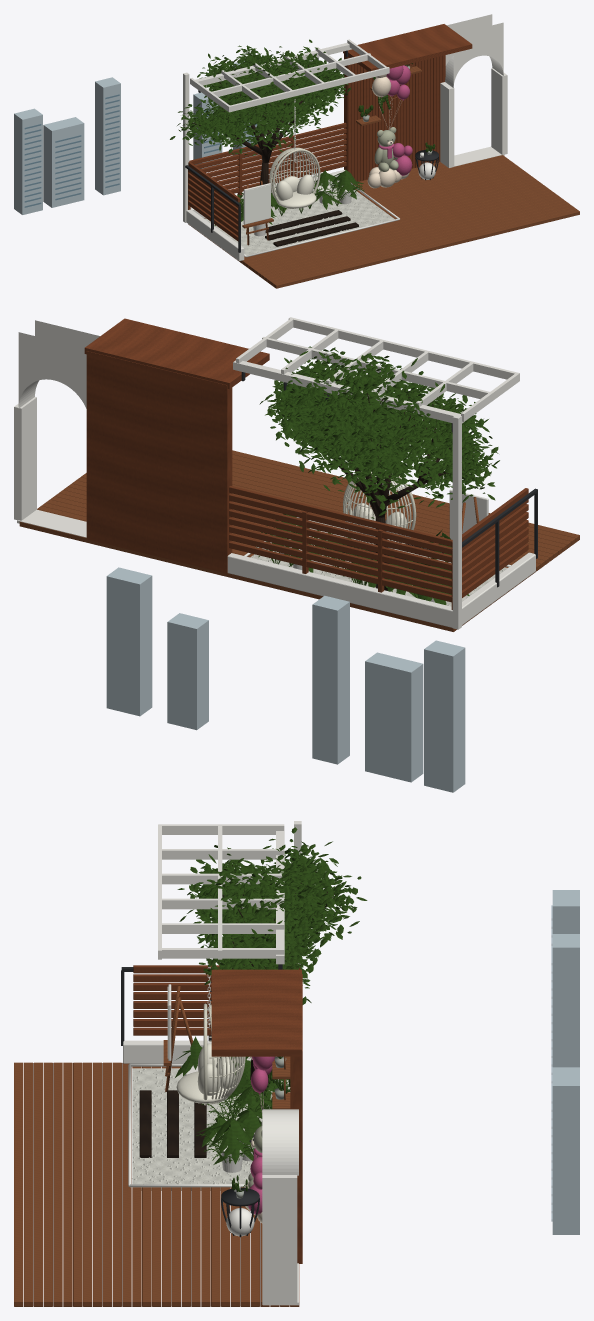
File: Xingtong_Terrace_Green_Textured.glb
The picture shows the model from 3 angles, top to bottom: view 1: azimuth 30°, elevation 25°; view 2: azimuth 150°, elevation 25°; view 3: azimuth 270°, elevation 25°; orthographic projection. The views are drawn at different scales.
Visible parts, largest first — view 1: Dense_green_broadleaf_crown, APPROXIMATE_distant_building.001, Gravel_bed, Small_roof_overhang, APPROXIMATE_distant_building.002, APPROXIMATE_distant_building, Arch_curved_opening_solid_spandrel, Deck_board, Arch_right_jamb, Arch_left_jamb, Pergola_white_cross_beam, Deck_board.003 (+54 smaller); view 2: Feature_wall_backing, Dense_green_broadleaf_crown, APPROXIMATE_distant_building.001, APPROXIMATE_distant_building.004, APPROXIMATE_distant_building.002, APPROXIMATE_distant_building, Small_roof_overhang, Rear_white_parapet, APPROXIMATE_distant_building.003, Arch_curved_opening_solid_spandrel, Arch_right_jamb, Pergola_left_visible_support (+26 smaller); view 3: Dense_green_broadleaf_crown, Small_roof_overhang, Gravel_bed, APPROXIMATE_distant_building.004, Arch_right_jamb, APPROXIMATE_distant_building.002, Understory_large_pointed_leaves, Deck_board, Deck_board.001, Deck_board.002, Deck_board.003, Deck_board.004 (+38 smaller).
Boxes of the visible parts, box(x1,y1,x2,y2) form: Dense_green_broadleaf_crown: box(170, 39, 350, 155); APPROXIMATE_distant_building.001: box(43, 117, 84, 207); Gravel_bed: box(205, 188, 394, 255); Small_roof_overhang: box(343, 24, 472, 71); APPROXIMATE_distant_building.002: box(95, 77, 120, 195); APPROXIMATE_distant_building: box(14, 108, 42, 214); Arch_curved_opening_solid_spandrel: box(445, 14, 503, 87); Deck_board: box(273, 209, 579, 288); Arch_right_jamb: box(491, 68, 507, 155); Arch_left_jamb: box(440, 82, 454, 167); Pergola_white_cross_beam: box(229, 67, 389, 112); Deck_board.003: box(264, 202, 570, 281); Feature_wall_backing: box(86, 351, 231, 573); Dense_green_broadleaf_crown: box(259, 346, 499, 518); APPROXIMATE_distant_building.001: box(365, 652, 423, 782); APPROXIMATE_distant_building.004: box(106, 567, 152, 716); APPROXIMATE_distant_building.002: box(312, 595, 349, 764); APPROXIMATE_distant_building: box(424, 640, 465, 792); Small_roof_overhang: box(84, 318, 269, 389); Rear_white_parapet: box(227, 553, 452, 627); APPROXIMATE_distant_building.003: box(167, 613, 208, 730); Arch_curved_opening_solid_spandrel: box(18, 320, 99, 408); Arch_right_jamb: box(14, 397, 36, 520); Pergola_left_visible_support: box(452, 414, 461, 629); Dense_green_broadleaf_crown: box(177, 827, 367, 1004); Small_roof_overhang: box(211, 969, 301, 1056); Gravel_bed: box(132, 1068, 290, 1190); APPROXIMATE_distant_building.004: box(552, 1067, 579, 1234); Arch_right_jamb: box(262, 1175, 297, 1304); APPROXIMATE_distant_building.002: box(552, 934, 579, 1067); Understory_large_pointed_leaves: box(175, 1036, 288, 1164); Deck_board: box(14, 1062, 23, 1306); Deck_board.001: box(24, 1062, 33, 1306); Deck_board.002: box(33, 1062, 42, 1306); Deck_board.003: box(43, 1062, 52, 1306); Deck_board.004: box(53, 1062, 62, 1306).
Size of the model in its own units: 13.43 by 6.25 by 10.34.
16 materials, 10 textured.
